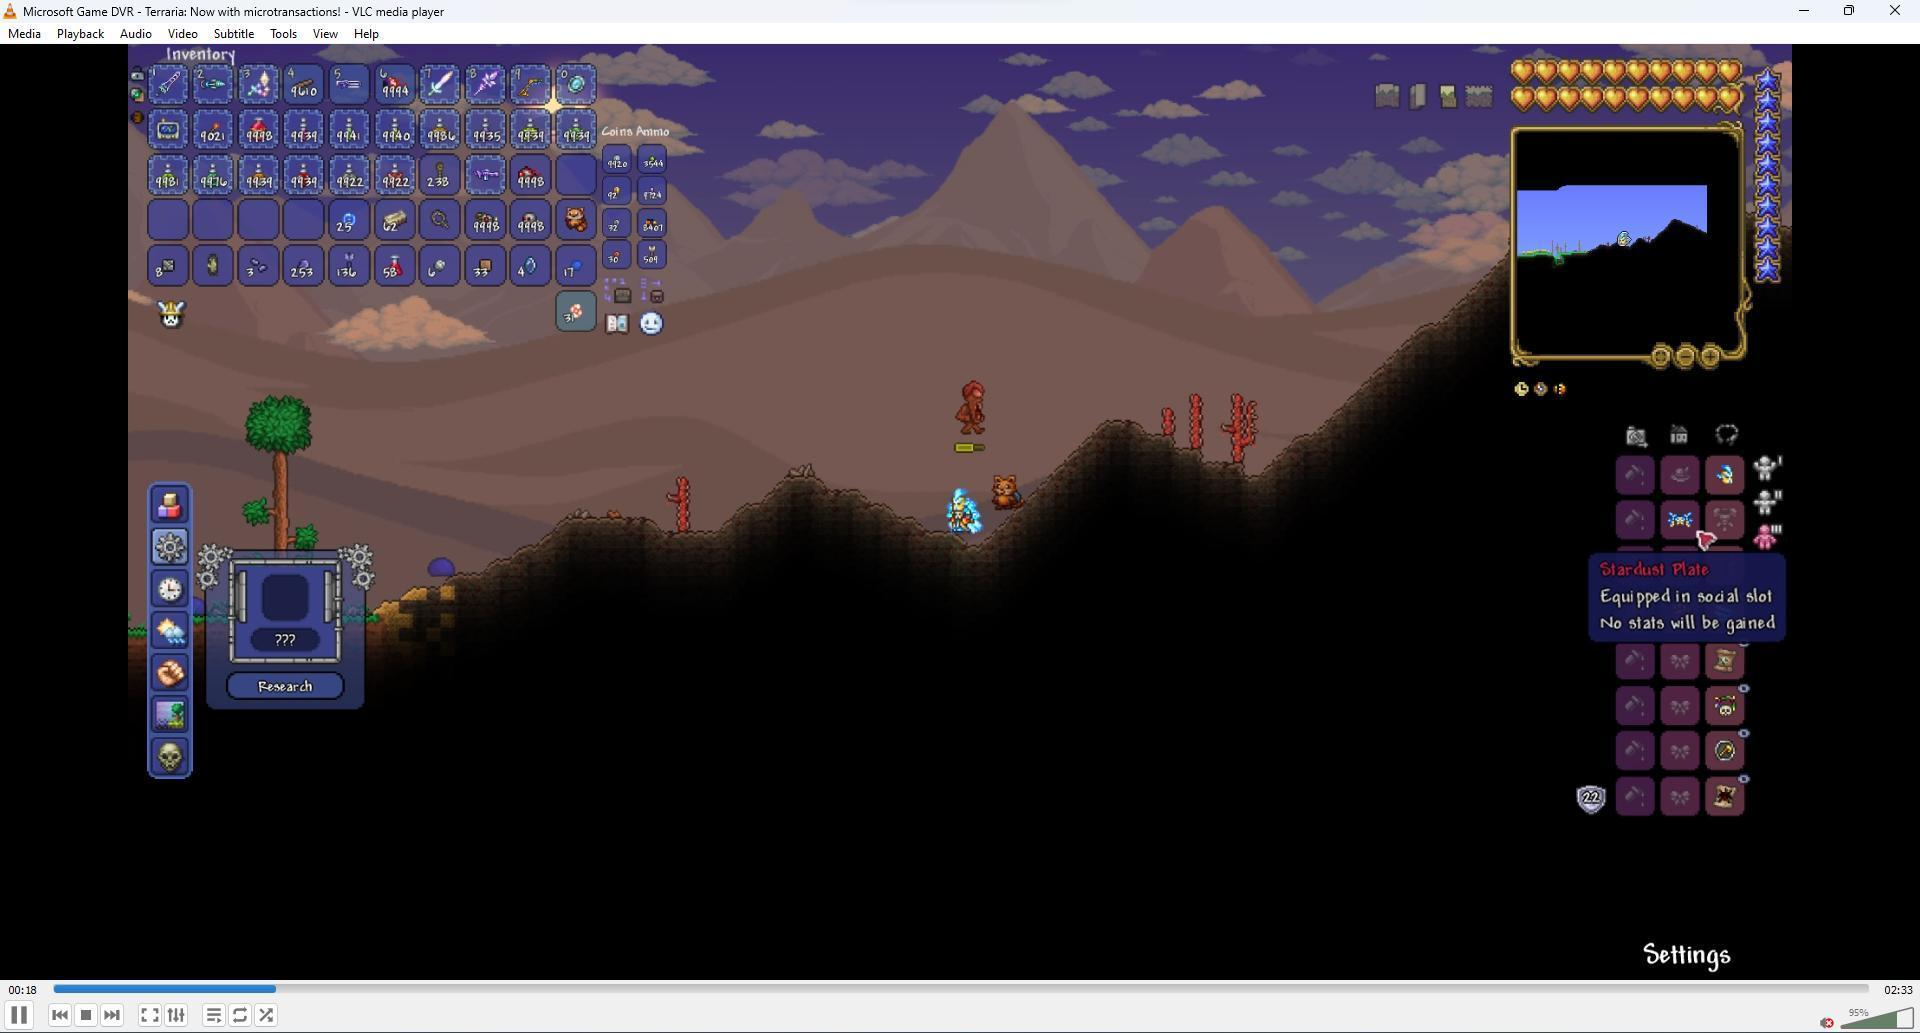slime: (425, 552, 459, 580)
zombie: (955, 373, 991, 438)
